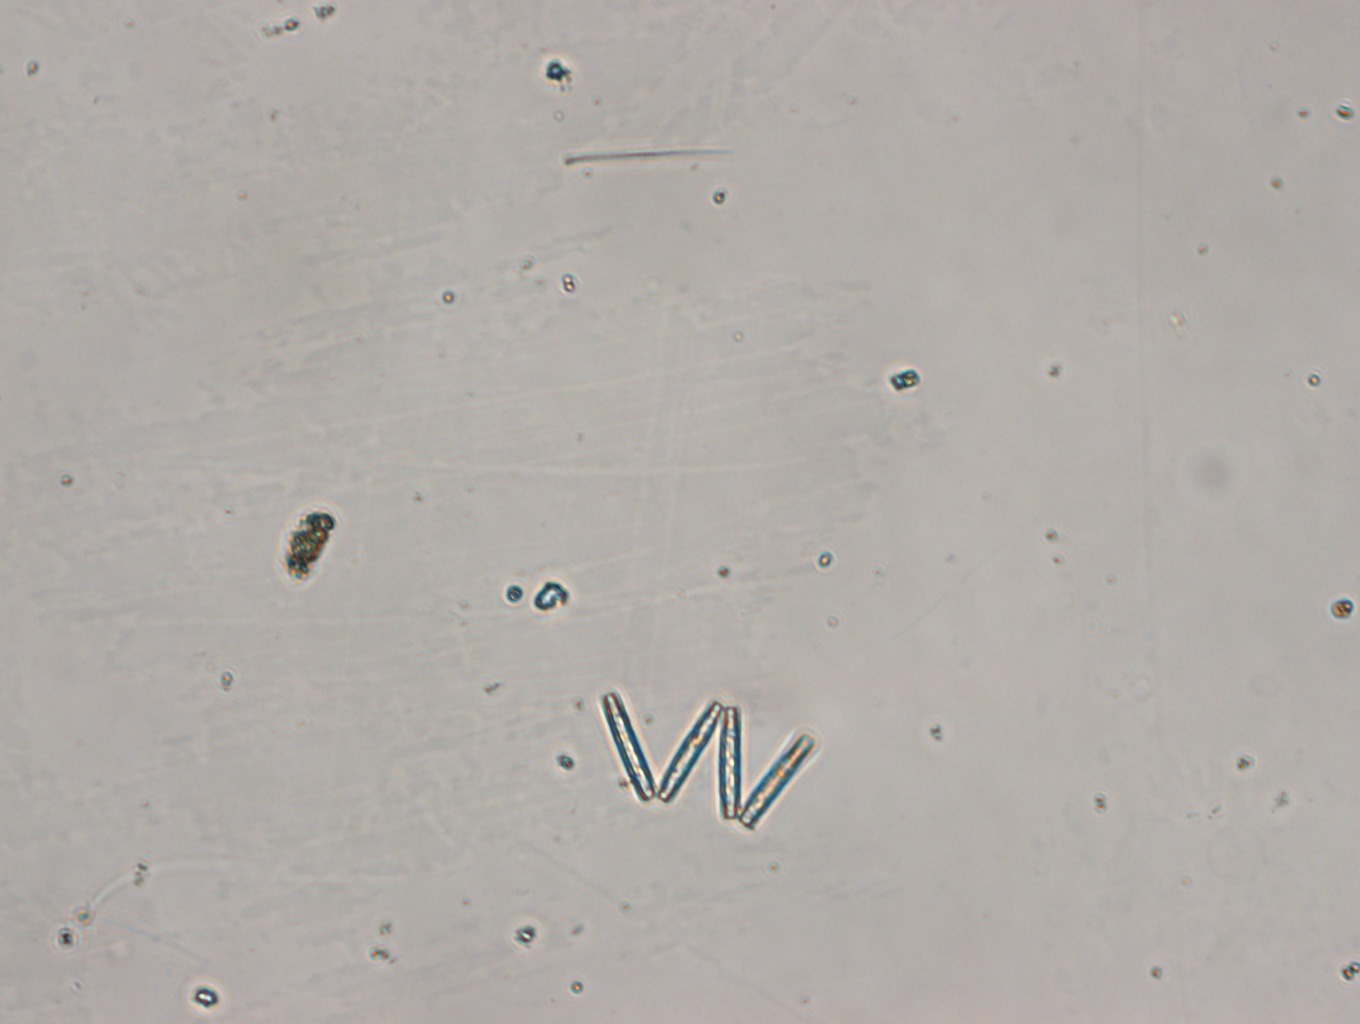thalassionema nitzschioides: (597, 686, 818, 833)
